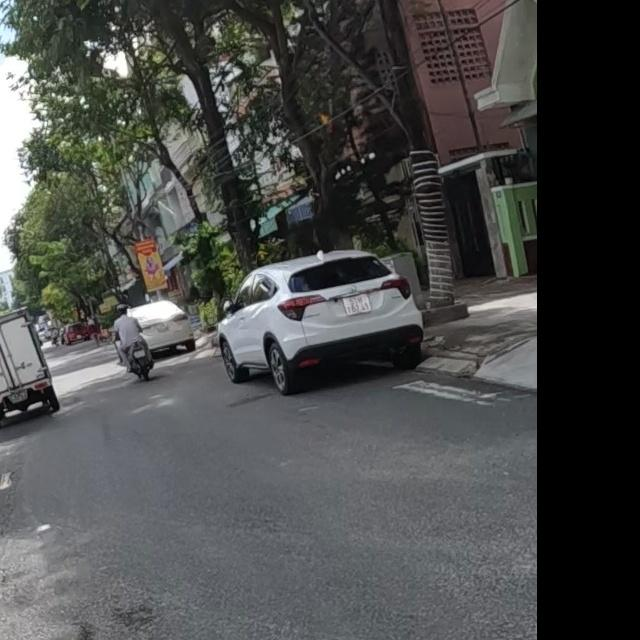license-plate: (342, 293, 372, 316)
